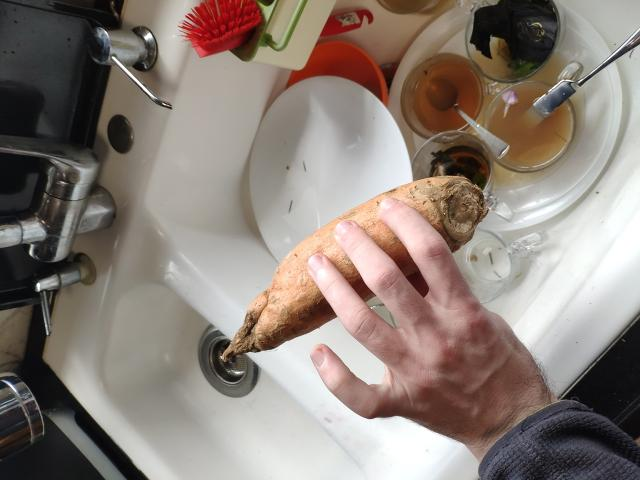sweet_potato: (217, 173, 481, 363)
